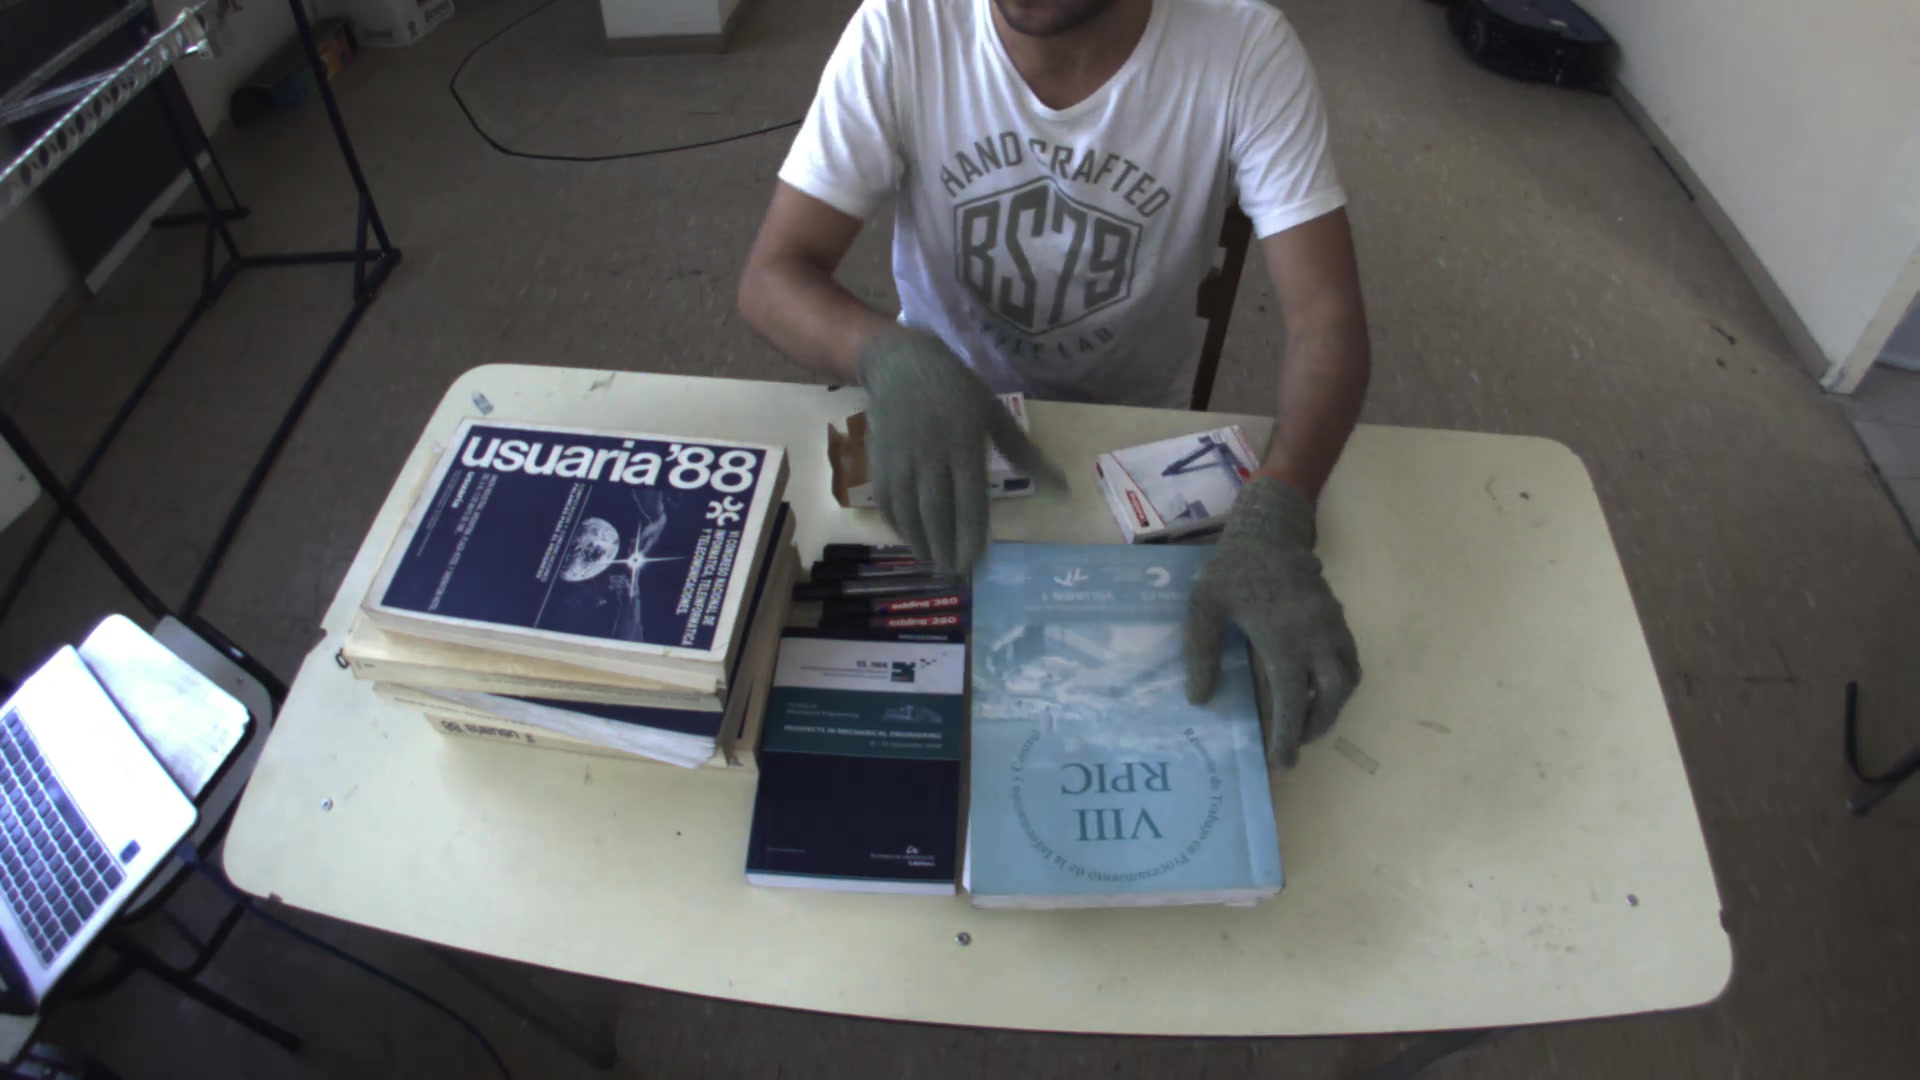hand: (1182, 467, 1381, 764), (833, 316, 1036, 575)
